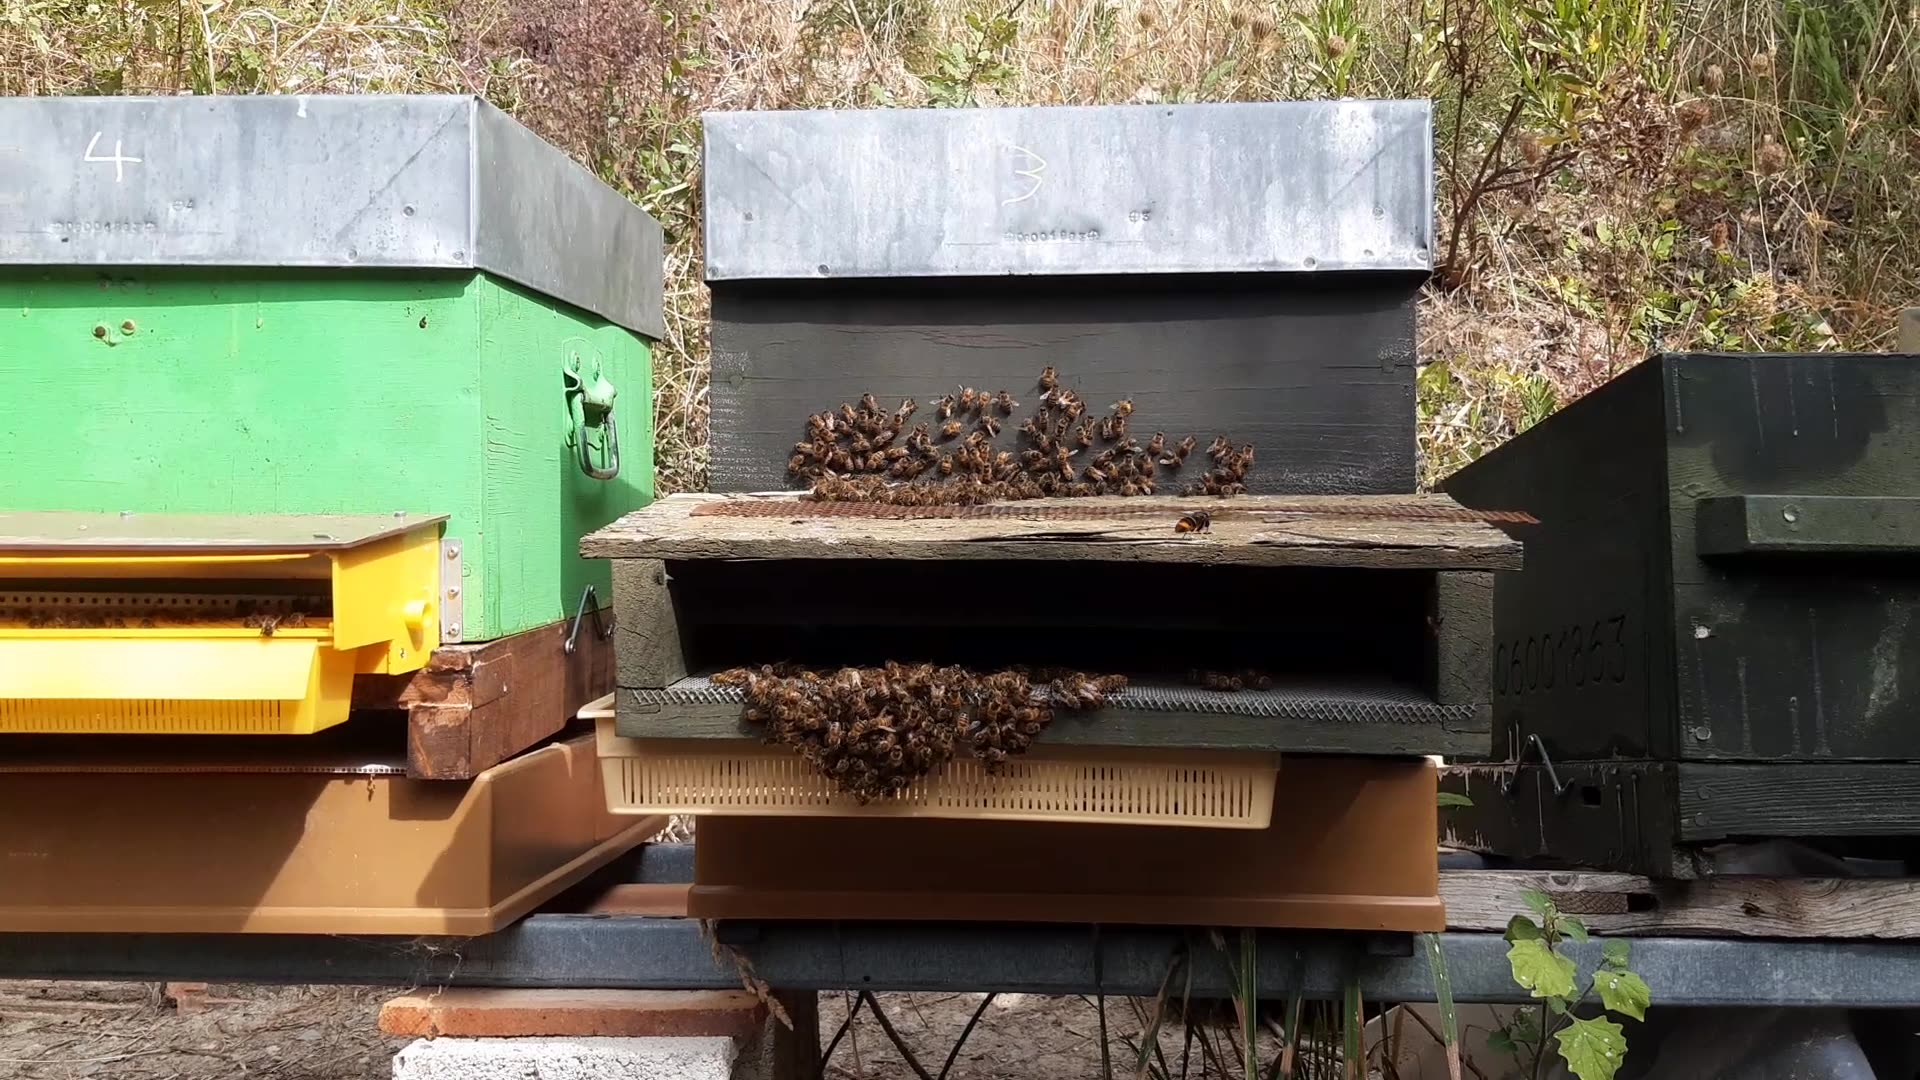bee: (836, 723, 915, 807), (1015, 671, 1114, 733), (721, 676, 806, 736), (948, 727, 1009, 804), (1171, 443, 1244, 495), (930, 458, 1001, 506), (1044, 451, 1110, 502), (1039, 396, 1095, 444), (948, 389, 1004, 436), (1184, 491, 1236, 539), (837, 407, 889, 452), (1153, 436, 1211, 473)
